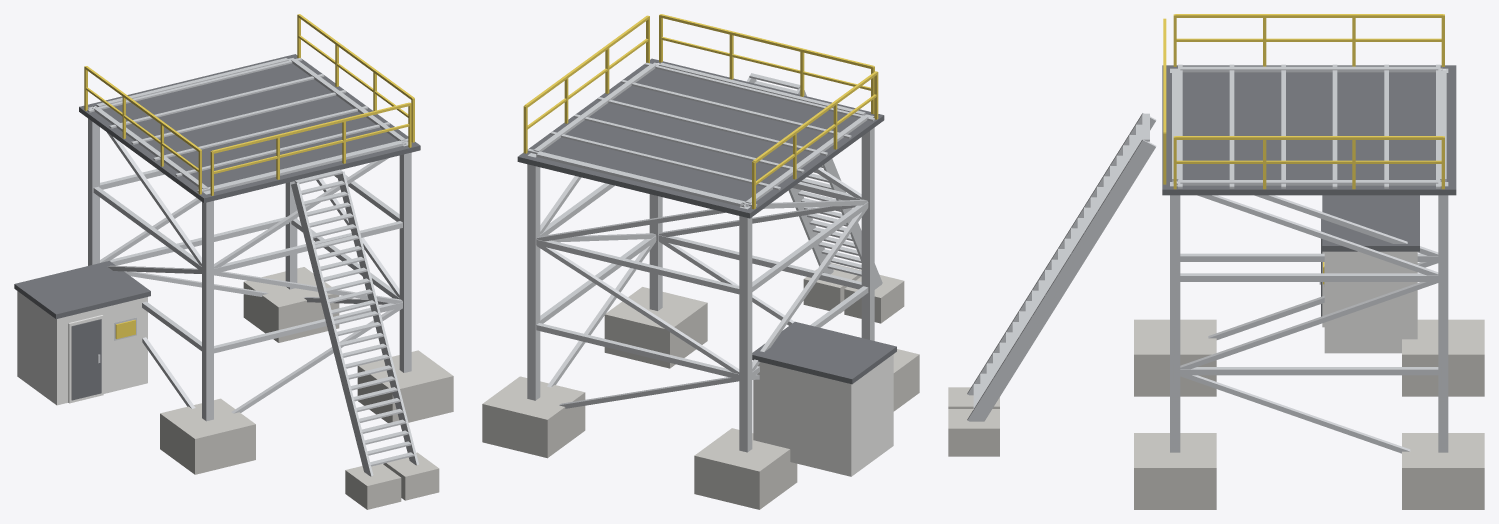
Rendered from gantry-base.glb.
3 renders of one model, left to right at view 1: azimuth 30°, elevation 25°; view 2: azimuth 150°, elevation 25°; view 3: azimuth 270°, elevation 25°, orthographic. The views are drawn at different scales.
Visible parts, largest first — view 1: gantry-base-section, door-plant/charcoal, door-plant/white; view 2: gantry-base-section; view 3: gantry-base-section.
Part boxes in pixels (<box>): gantry-base-section: <box>14,14,453,509</box>; door-plant/charcoal: <box>71,319,101,400</box>; door-plant/white: <box>68,315,103,403</box>; gantry-base-section: <box>482,14,919,509</box>; gantry-base-section: <box>948,14,1484,509</box>.
Size of the model in its own units: 8.35 by 7.71 by 10.4.
